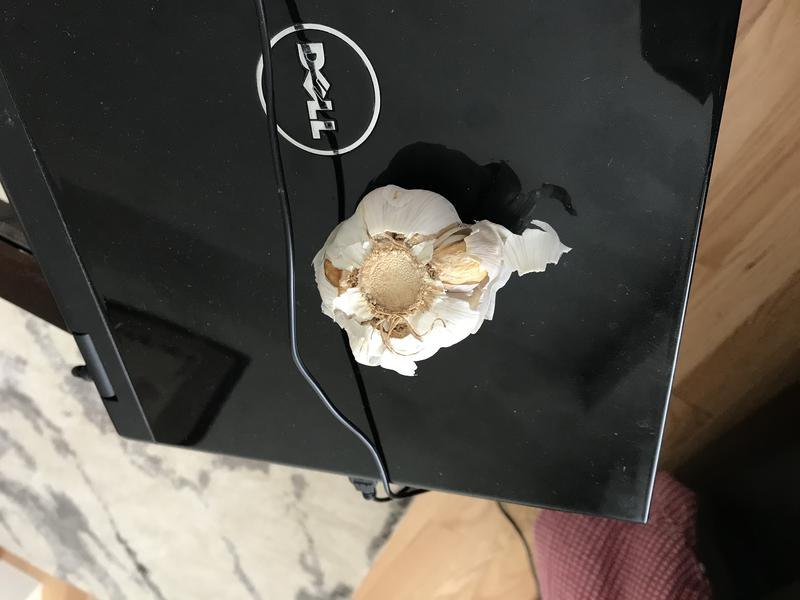garlic: (306, 187, 526, 384)
